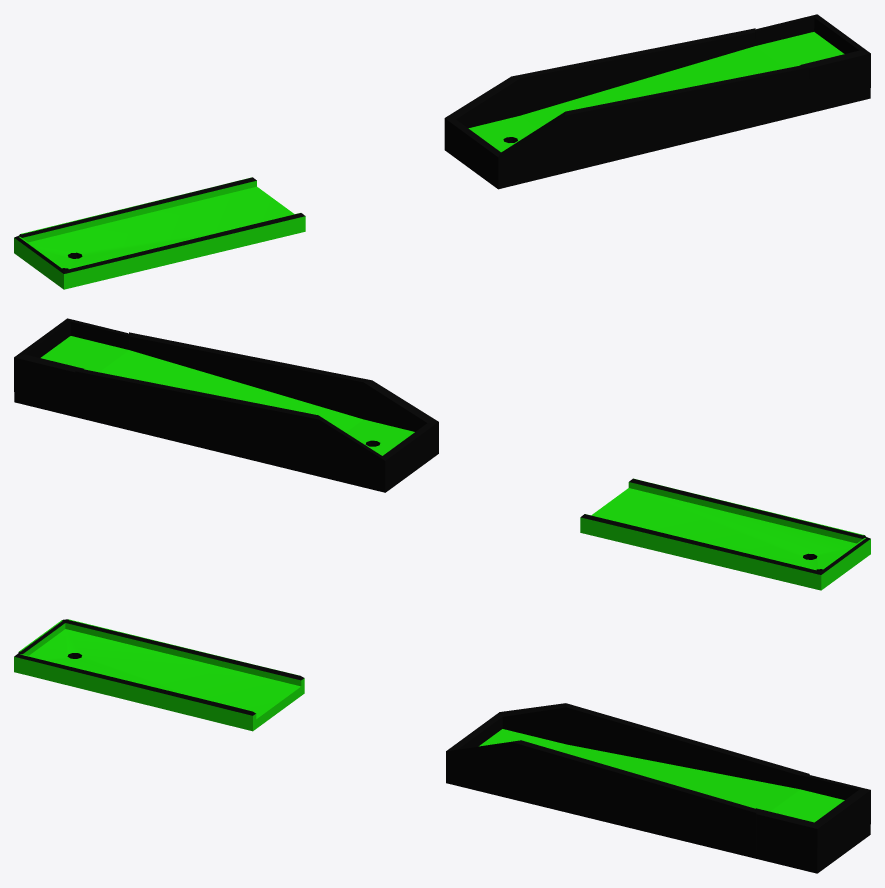
File: GolfBoardD.fbx
3 renders of one model, top to bottom at view 1: azimuth 30°, elevation 25°; view 2: azimuth 150°, elevation 25°; view 3: azimuth 330°, elevation 25°, orthographic.
Parts seen in each view (by area): view 1: golf_Board, golf_Board.001; view 2: golf_Board, golf_Board.001; view 3: golf_Board, golf_Board.001.
Boxes of the visible parts, left/top/right/bottom form: golf_Board: left=444, top=14, right=870, bottom=189; golf_Board.001: left=14, top=177, right=305, bottom=289; golf_Board: left=14, top=318, right=438, bottom=492; golf_Board.001: left=580, top=478, right=870, bottom=590; golf_Board: left=446, top=703, right=870, bottom=873; golf_Board.001: left=14, top=619, right=304, bottom=731.
Bounding box in the file's own units: 2413 × 164 × 281.
